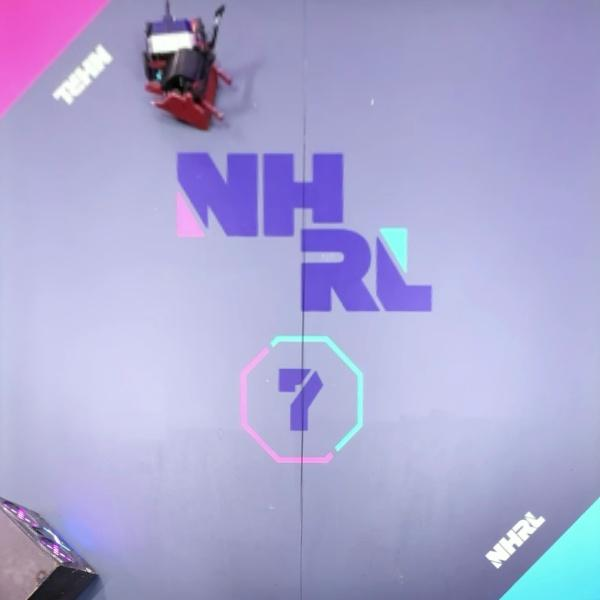housebot: (0, 494, 100, 600)
robot: (145, 4, 236, 130), (144, 1, 212, 80)
